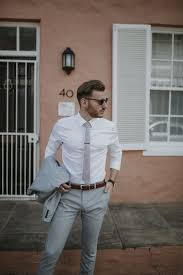F_belt: (58, 177, 115, 197)
F_shirt: (42, 114, 129, 189)
F_tie: (73, 119, 101, 185)
